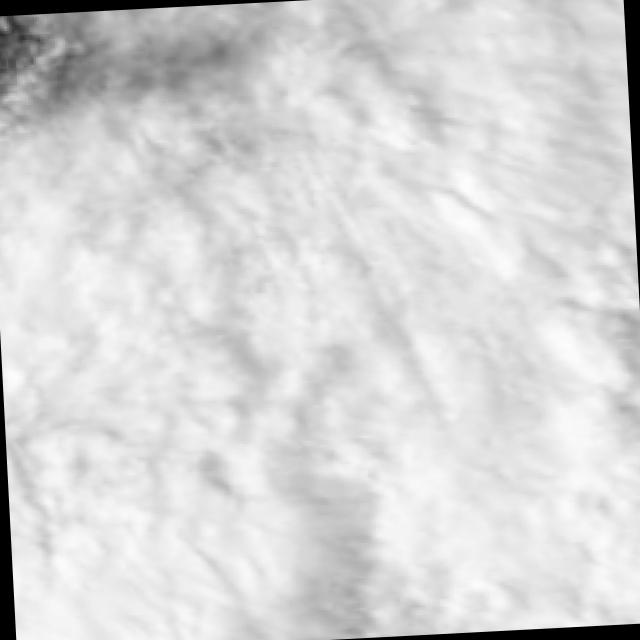CB: (0, 117, 603, 640), (281, 0, 630, 183)
